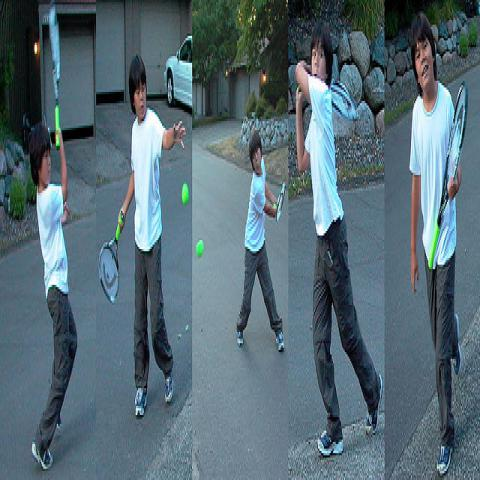car: (164, 34, 192, 110)
